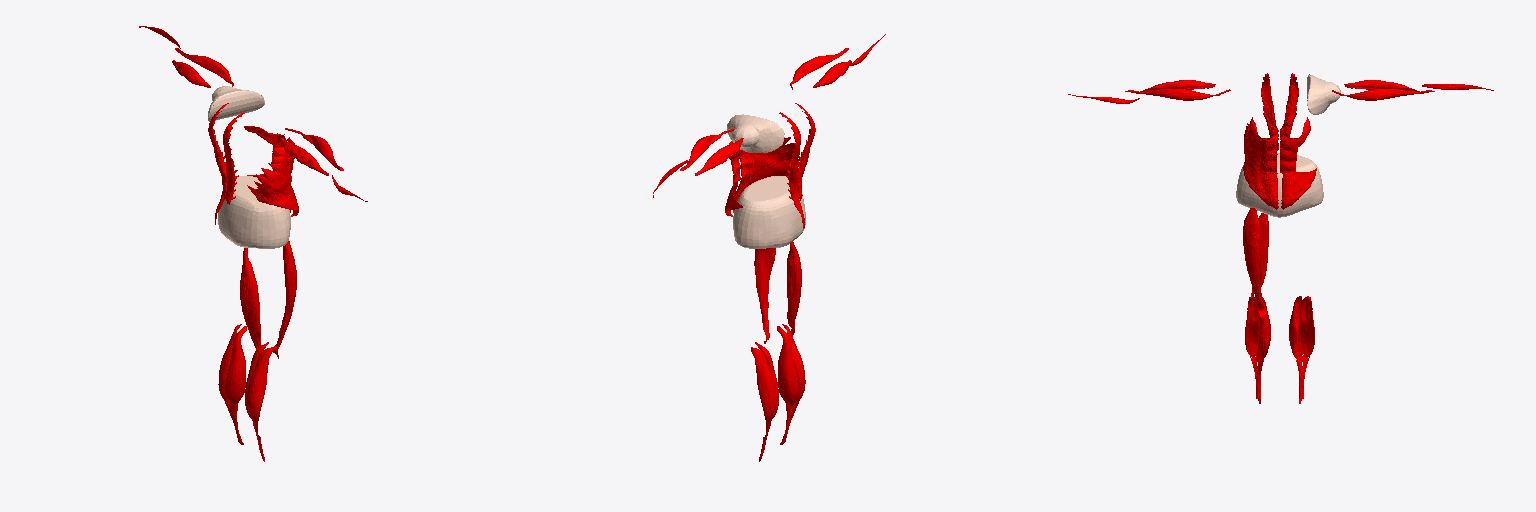
--- Facts derived from the render (not from the file) ---
The picture shows the robot from 3 angles, left to right: view 1: azimuth 30°, elevation 25°; view 2: azimuth 150°, elevation 25°; view 3: azimuth 270°, elevation 25°; orthographic projection.
Model HumanModel with 93 links and 92 joints (44 revolute, 48 fixed), rooted at Pelvis, posed every joint at zero.
Visible links, largest first — view 1: Pelvis, RightUpperLeg, LowerTrunk, LeftLowerLeg, RightLowerLeg, LeftShoulder, UpperTrunk, RightUpperArm, LeftUpperArm; view 2: Pelvis, RightUpperLeg, LowerTrunk, RightLowerLeg, LeftShoulder, LeftLowerLeg, LeftUpperArm, RightUpperArm, UpperTrunk; view 3: Pelvis, RightUpperLeg, LowerTrunk, LeftLowerLeg, UpperTrunk, RightLowerLeg, RightUpperArm, LeftUpperArm, LeftShoulder.
Link boxes in pixels (<box>): Pelvis: <box>215,174,298,248</box>; RightUpperLeg: <box>240,241,296,358</box>; LowerTrunk: <box>221,145,293,206</box>; LeftLowerLeg: <box>218,324,246,444</box>; RightLowerLeg: <box>245,342,272,461</box>; LeftShoulder: <box>208,86,264,121</box>; UpperTrunk: <box>208,103,294,179</box>; RightUpperArm: <box>280,128,343,175</box>; LeftUpperArm: <box>172,48,233,87</box>; Pelvis: <box>725,175,805,248</box>; RightUpperLeg: <box>754,241,801,343</box>; LowerTrunk: <box>731,137,803,201</box>; RightLowerLeg: <box>777,324,805,444</box>; LeftShoulder: <box>727,114,784,152</box>; LeftLowerLeg: <box>751,342,778,461</box>; LeftUpperArm: <box>680,129,743,175</box>; RightUpperArm: <box>790,48,851,89</box>; UpperTrunk: <box>729,103,815,179</box>; Pelvis: <box>1236,153,1323,217</box>; RightUpperLeg: <box>1243,208,1268,319</box>; LowerTrunk: <box>1243,116,1297,172</box>; LeftLowerLeg: <box>1289,296,1314,403</box>; UpperTrunk: <box>1249,73,1310,150</box>; RightLowerLeg: <box>1245,296,1270,403</box>; RightUpperArm: <box>1125,80,1230,100</box>; LeftUpperArm: <box>1332,80,1434,100</box>; LeftShoulder: <box>1307,74,1340,114</box>.
Bounding box of the posed robot: 0.2951 × 1.7 × 1.4 m (x, y, z).
Meshes: 51 distinct files referenced, 25 mesh visuals loaded (25 binary STL); not drawn: 26 (reference not matched to a file when rendering).

URDF robot description (HumanModel):
<?xml version='1.0' encoding='UTF-8'?>
<robot name="HumanModel">
  <link name="Pelvis">
    <inertial>
      <origin xyz="0.0 0.0 0.0" rpy="0.0 0.0 0.0"/>
      <mass value="11.3568"/>
      <inertia ixx="0.10967187230999999" ixy="0.0" ixz="0.0" iyy="0.10085187621599999" iyz="0.0" izz="0.179171996094"/>
    </inertial>
    <!-- Pelvis meshes body -->
    <visual>
      <geometry>
        <mesh filename="meshes\body\Pelvis.stl" scale="1 1 1"/>
      </geometry>
      <material name="color"/>
      <origin xyz="0.0 0.0 0.0" rpy="0.0 0.0 0.0"/>
    </visual>
    <!-- Pelvis Pelvis_RightErcSpin -->
    <visual>
      <geometry>
        <mesh filename="meshes\muscle\Pelvis_RightErcSpin.stl" scale="1 1 1"/>
      </geometry>
      <material name="muscle"/>
      <origin xyz="0.0 0.0 0.0" rpy="0.0 0.0 0.0"/>
    </visual>
    <!-- Pelvis Pelvis_LeftErcSpin -->
    <visual>
      <geometry>
        <mesh filename="meshes\muscle\Pelvis_LeftErcSpin.stl" scale="1 1 1"/>
      </geometry>
      <material name="muscle"/>
      <origin xyz="0.0 0.0 0.0" rpy="0.0 0.0 0.0"/>
    </visual>
    <!-- Pelvis Pelvis_RightRecAbd -->
    <visual>
      <geometry>
        <mesh filename="meshes\muscle\Pelvis_RightRecAbd.stl" scale="1 1 1"/>
      </geometry>
      <material name="muscle"/>
      <origin xyz="0.0 0.0 0.0" rpy="0.0 0.0 0.0"/>
    </visual>
    <!-- Pelvis Pelvis_LeftRecAbd -->
    <visual>
      <geometry>
        <mesh filename="meshes\muscle\Pelvis_LeftRecAbd.stl" scale="1 1 1"/>
      </geometry>
      <material name="muscle"/>
      <origin xyz="0.0 0.0 0.0" rpy="0.0 0.0 0.0"/>
    </visual>
    <collision>
      <geometry>
        <box size="0.3     0.31515 0.1287 "/>
      </geometry>
      <origin xyz="0.0 0.0 0.0" rpy="0.0 0.0 0.0"/>
    </collision>
  </link>
  <link name="LowerTrunk_f1">
    <inertial>
      <origin xyz="0.0 0.0 0.0" rpy="0.0 0.0 0.0"/>
      <mass value="1e-05"/>
      <inertia ixx="0.0" ixy="0.0" ixz="0.0" iyy="0.0" iyz="0.0" izz="0.0"/>
    </inertial>
  </link>
  <link name="LowerTrunk">
    <inertial>
      <origin xyz="0.0 0.0 0.0825" rpy="0.0 0.0 0.0"/>
      <mass value="14.8704"/>
      <inertia ixx="0.135880027272" ixy="0.0" ixz="0.0" iyy="0.14526522" iyz="0.0" izz="0.21367080727199997"/>
    </inertial>
    <!-- LowerTrunk meshes body -->
    <visual>
      <geometry>
        <mesh filename="meshes\body\LowerTrunk.stl" scale="1 1 1"/>
      </geometry>
      <material name="color"/>
      <origin xyz="0.0 0.0 0.0825" rpy="0.0 0.0 0.0"/>
    </visual>
    <!-- LowerTrunk_RightErcSpin -->
    <visual>
      <geometry>
        <mesh filename="meshes\muscle\LowerTrunk_RightErcSpin.stl" scale="1 1 1"/>
      </geometry>
      <material name="muscle"/>
      <origin xyz="0.0 0.0 0.0825" rpy="0.0 0.0 0.0"/>
    </visual>
    <!-- LowerTrunk_LeftErcSpin -->
    <visual>
      <geometry>
        <mesh filename="meshes\muscle\LowerTrunk_LeftErcSpin.stl" scale="1 1 1"/>
      </geometry>
      <material name="muscle"/>
      <origin xyz="0.0 0.0 0.0825" rpy="0.0 0.0 0.0"/>
    </visual>
    <!-- LowerTrunk_RightRecAbd -->
    <visual>
      <geometry>
        <mesh filename="meshes\muscle\LowerTrunk_RightRecAbd.stl" scale="1 1 1"/>
      </geometry>
      <material name="muscle"/>
      <origin xyz="0.0 0.0 0.0825" rpy="0.0 0.0 0.0"/>
    </visual>
    <!-- LowerTrunk_LefttRecAbd -->
    <visual>
      <geometry>
        <mesh filename="meshes\muscle\LowerTrunk_LefttRecAbd.stl" scale="1 1 1"/>
      </geometry>
      <material name="muscle"/>
      <origin xyz="0.0 0.0 0.0825" rpy="0.0 0.0 0.0"/>
    </visual>
    <collision>
      <geometry>
        <box size="0.3    0.2871 0.165 "/>
      </geometry>
      <origin xyz="0.0 0.0 0.0825" rpy="0.0 0.0 0.0"/>
    </collision>
  </link>
  <link name="UpperTrunk_f1">
    <inertial>
      <origin xyz="0.0 0.0 0.0" rpy="0.0 0.0 0.0"/>
      <mass value="1e-05"/>
      <inertia ixx="0.0" ixy="0.0" ixz="0.0" iyy="0.0" iyz="0.0" izz="0.0"/>
    </inertial>
  </link>
  <link name="UpperTrunk_f2">
    <inertial>
      <origin xyz="0.0 0.0 0.0" rpy="0.0 0.0 0.0"/>
      <mass value="1e-05"/>
      <inertia ixx="0.0" ixy="0.0" ixz="0.0" iyy="0.0" iyz="0.0" izz="0.0"/>
    </inertial>
  </link>
  <link name="UpperTrunk">
    <inertial>
      <origin xyz="0.0 0.0 0.09075" rpy="0.0 0.0 0.0"/>
      <mass value="5.0207999999999995"/>
      <inertia ixx="0.022273211245999996" ixy="0.0" ixz="0.0" iyy="0.05143903739999999" iyz="0.0" izz="0.04614617384599999"/>
    </inertial>
    <!-- UpperTrunk meshes body -->
    <visual>
      <geometry>
        <mesh filename="meshes\body\UpperTrunk.stl" scale="1 1 1"/>
      </geometry>
      <material name="color"/>
      <origin xyz="0.0 0.0 0.09075" rpy="0.0 0.0 0.0"/>
    </visual>
    <!-- UpperTrunk_RightErcSpin -->
    <visual>
      <geometry>
        <mesh filename="meshes\muscle\UpperTrunk_RightErcSpin.stl" scale="1 1 1"/>
      </geometry>
      <material name="muscle"/>
      <origin xyz="0.0 0.0 0.09075" rpy="0.0 0.0 0.0"/>
    </visual>
    <!-- UpperTrunk_LeftErcSpin -->
    <visual>
      <geometry>
        <mesh filename="meshes\muscle\UpperTrunk_LeftErcSpin.stl" scale="1 1 1"/>
      </geometry>
      <material name="muscle"/>
      <origin xyz="0.0 0.0 0.09075" rpy="0.0 0.0 0.0"/>
    </visual>
    <!-- UpperTrunk_RightRecAbd -->
    <visual>
      <geometry>
        <mesh filename="meshes\muscle\UpperTrunk_RightRecAbd.stl" scale="1 1 1"/>
      </geometry>
      <material name="muscle"/>
      <origin xyz="0.0 0.0 0.09075" rpy="0.0 0.0 0.0"/>
    </visual>
    <!-- UpperTrunk_LeftRecAbd -->
    <visual>
      <geometry>
        <mesh filename="meshes\muscle\UpperTrunk_LeftRecAbd.stl" scale="1 1 1"/>
      </geometry>
      <material name="muscle"/>
      <origin xyz="0.0 0.0 0.09075" rpy="0.0 0.0 0.0"/>
    </visual>
    <collision>
      <geometry>
        <box size="0.3     0.14245 0.1815 "/>
      </geometry>
      <origin xyz="0.0 0.0 0.09075" rpy="0.0 0.0 0.0"/>
    </collision>
  </link>
  <link name="RightShoulder">
    <inertial>
      <origin xyz="0.0 -0.071225 0.0" rpy="1.5708 0.0 0.0"/>
      <mass value="5.0207999999999995"/>
      <inertia ixx="0.011031953845999998" ixy="0.0" ixz="0.0" iyy="0.011031953845999998" iyz="0.0" izz="0.01"/>
    </inertial>
    <!-- RightShoulder meshes body -->
    <visual>
      <geometry>
        <mesh filename="meshes\body\RightShoulder.stl" scale="1 1 1"/>
      </geometry>
      <material name="color"/>
      <origin xyz="0.0 -0.071225 0.0" rpy="1.5708 0.0 0.0"/>
    </visual>
    <collision>
      <geometry>
        <cylinder radius="0.045" length="0.14245"/>
      </geometry>
      <origin xyz="0.0 -0.071225 0.0" rpy="1.5708 0.0 0.0"/>
    </collision>
  </link>
  <link name="LeftShoulder">
    <inertial>
      <origin xyz="0.0 0.071225 0.0" rpy="1.5708 0.0 0.0"/>
      <mass value="5.0207999999999995"/>
      <inertia ixx="0.011031953845999998" ixy="0.0" ixz="0.0" iyy="0.011031953845999998" iyz="0.0" izz="0.01"/>
    </inertial>
    <!-- LeftShoulder meshes body -->
    <visual>
      <geometry>
        <mesh filename="meshes\body\LeftShoulder.stl" scale="1 1 1"/>
      </geometry>
      <material name="color"/>
      <origin xyz="0.0 0.071225 0.0" rpy="1.5708 0.0 0.0"/>
    </visual>
    <collision>
      <geometry>
        <cylinder radius="0.045" length="0.14245"/>
      </geometry>
      <origin xyz="0.0 0.071225 0.0" rpy="1.5708 0.0 0.0"/>
    </collision>
  </link>
  <link name="Neck_f1">
    <inertial>
      <origin xyz="0.0 0.0 0.0" rpy="0.0 0.0 0.0"/>
      <mass value="1e-05"/>
      <inertia ixx="0.0" ixy="0.0" ixz="0.0" iyy="0.0" iyz="0.0" izz="0.0"/>
    </inertial>
  </link>
  <link name="Neck_f2">
    <inertial>
      <origin xyz="0.0 0.0 0.0" rpy="0.0 0.0 0.0"/>
      <mass value="1e-05"/>
      <inertia ixx="0.0" ixy="0.0" ixz="0.0" iyy="0.0" iyz="0.0" izz="0.0"/>
    </inertial>
  </link>
  <link name="Neck">
    <inertial>
      <origin xyz="0.0 0.0 0.042899999999999994" rpy="0.0 0.0 0.0"/>
      <mass value="1.8624"/>
      <inertia ixx="0.01" ixy="0.0" ixz="0.0" iyy="0.01" iyz="0.0" izz="0.01"/>
    </inertial>
    <!-- Neck meshes body -->
    <visual>
      <geometry>
        <mesh filename="meshes\body\Neck.stl" scale="1 1 1"/>
      </geometry>
      <material name="color"/>
      <origin xyz="0.0 0.0 0.042899999999999994" rpy="0.0 0.0 0.0"/>
    </visual>
    <collision>
      <geometry>
        <cylinder radius="0.065" length="0.08579999999999999"/>
      </geometry>
      <origin xyz="0.0 0.0 0.042899999999999994" rpy="0.0 0.0 0.0"/>
    </collision>
  </link>
  <link name="Head_f1">
    <inertial>
      <origin xyz="0.0 0.0 0.0" rpy="0.0 0.0 0.0"/>
      <mass value="1e-05"/>
      <inertia ixx="0.0" ixy="0.0" ixz="0.0" iyy="0.0" iyz="0.0" izz="0.0"/>
    </inertial>
  </link>
  <link name="Head">
    <inertial>
      <origin xyz="0.0 0.0 0.10725" rpy="0.0 0.0 0.0"/>
      <mass value="4.6752"/>
      <inertia ixx="0.02151071208" ixy="0.0" ixz="0.0" iyy="0.02151071208" iyz="0.0" izz="0.02151071208"/>
    </inertial>
    <!-- Head meshes body -->
    <visual>
      <geometry>
        <mesh filename="meshes\body\Head.stl" scale="1 1 1"/>
      </geometry>
      <material name="color"/>
      <origin xyz="0.0 0.0 0.10725" rpy="0.0 0.0 0.0"/>
    </visual>
    <collision>
      <geometry>
        <sphere radius="0.10725"/>
      </geometry>
      <origin xyz="0.0 0.0 0.10725" rpy="0.0 0.0 0.0"/>
    </collision>
  </link>
  <link name="RightShoulder_f1">
    <inertial>
      <origin xyz="0.0 0.0 0.0" rpy="0.0 0.0 0.0"/>
      <mass value="1e-05"/>
      <inertia ixx="0.0" ixy="0.0" ixz="0.0" iyy="0.0" iyz="0.0" izz="0.0"/>
    </inertial>
  </link>
  <link name="RightShoulder_f2">
    <inertial>
      <origin xyz="0.0 0.0 0.0" rpy="0.0 0.0 0.0"/>
      <mass value="1e-05"/>
      <inertia ixx="0.0" ixy="0.0" ixz="0.0" iyy="0.0" iyz="0.0" izz="0.0"/>
    </inertial>
  </link>
  <link name="RightUpperArm">
    <inertial>
      <origin xyz="0.0 -0.15345 0.0" rpy="1.5708 0.0 0.0"/>
      <mass value="2.5248"/>
      <inertia ixx="0.021095253143999997" ixy="0.0" ixz="0.0" iyy="0.021095253143999997" iyz="0.0" izz="0.01"/>
    </inertial>
    <!-- RightUpperArm meshes body -->
    <visual>
      <geometry>
        <mesh filename="meshes\body\RightUpperArm.stl" scale="1 1 1"/>
      </geometry>
      <material name="color"/>
      <origin xyz="0.0 -0.15345 0.0" rpy="1.5708 0.0 0.0"/>
    </visual>
    <!-- RightBicBrac -->
    <visual>
      <geometry>
        <mesh filename="meshes\muscle\RightBicBrac.stl" scale="1 1 1"/>
      </geometry>
      <material name="muscle"/>
      <origin xyz="0.0 -0.15345 0.0" rpy="1.5708 0.0 0.0"/>
    </visual>
    <!-- RightTricBrac -->
    <visual>
      <geometry>
        <mesh filename="meshes\muscle\RightTricBrac.stl" scale="1 1 1"/>
      </geometry>
      <material name="muscle"/>
      <origin xyz="0.0 -0.15345 0.0" rpy="1.5708 0.0 0.0"/>
    </visual>
    <collision>
      <geometry>
        <cylinder radius="0.045" length="0.3069"/>
      </geometry>
      <origin xyz="0.0 -0.15345 0.0" rpy="1.5708 0.0 0.0"/>
    </collision>
  </link>
  <link name="RightForeArm_f1">
    <inertial>
      <origin xyz="0.0 0.0 0.0" rpy="0.0 0.0 0.0"/>
      <mass value="1e-05"/>
      <inertia ixx="0.0" ixy="0.0" ixz="0.0" iyy="0.0" iyz="0.0" izz="0.0"/>
    </inertial>
  </link>
  <link name="RightForeArm">
    <inertial>
      <origin xyz="0.0 -0.12044999999999999 0.0" rpy="1.5708 0.0 0.0"/>
      <mass value="1.44"/>
      <inertia ixx="0.01" ixy="0.0" ixz="0.0" iyy="0.01" iyz="0.0" izz="0.01"/>
    </inertial>
    <!-- RightForeArm meshes body -->
    <visual>
      <geometry>
        <mesh filename="meshes\body\RightForeArm.stl" scale="1 1 1"/>
      </geometry>
      <material name="color"/>
      <origin xyz="0.0 -0.12044999999999999 0.0" rpy="1.5708 0.0 0.0"/>
    </visual>
    <!-- RightExtCarp -->
    <visual>
      <geometry>
        <mesh filename="meshes\muscle\RightExtCarp.stl" scale="1 1 1"/>
      </geometry>
      <material name="muscle"/>
      <origin xyz="0.0 -0.12044999999999999 0.0" rpy="1.5708 0.0 0.0"/>
    </visual>
    <!-- RightFlexCarp -->
    <visual>
      <geometry>
        <mesh filename="meshes\muscle\RightFlexCarp.stl" scale="1 1 1"/>
      </geometry>
      <material name="muscle"/>
      <origin xyz="0.0 -0.12044999999999999 0.0" rpy="1.5708 0.0 0.0"/>
    </visual>
    <collision>
      <geometry>
        <cylinder radius="0.045" length="0.24089999999999998"/>
      </geometry>
      <origin xyz="0.0 -0.12044999999999999 0.0" rpy="1.5708 0.0 0.0"/>
    </collision>
  </link>
  <link name="RightHand_f1">
    <inertial>
      <origin xyz="0.0 0.0 0.0" rpy="0.0 0.0 0.0"/>
      <mass value="1e-05"/>
      <inertia ixx="0.0" ixy="0.0" ixz="0.0" iyy="0.0" iyz="0.0" izz="0.0"/>
    </inertial>
  </link>
  <link name="RightHand">
    <inertial>
      <origin xyz="0.0 -0.0891 0.0" rpy="0.0 0.0 0.0"/>
      <mass value="0.5664"/>
      <inertia ixx="0.01" ixy="0.0" ixz="0.0" iyy="0.01" iyz="0.0" izz="0.01"/>
    </inertial>
    <!-- RightHand meshes body -->
    <visual>
      <geometry>
        <mesh filename="meshes\body\RightHand.stl" scale="1 1 1"/>
      </geometry>
      <material name="color"/>
      <origin xyz="0.0 -0.0891 0.0" rpy="0.0 0.0 0.0"/>
    </visual>
    <collision>
      <geometry>
        <box size="0.08   0.1782 0.045 "/>
      </geometry>
      <origin xyz="0.0 -0.0891 0.0" rpy="0.0 0.0 0.0"/>
    </collision>
  </link>
  <link name="RightHandCOM">
    <inertial>
      <origin xyz="0.0 0.0 0.0" rpy="0.0 0.0 0.0"/>
      <mass value="1e-05"/>
      <inertia ixx="0.0" ixy="0.0" ixz="0.0" iyy="0.0" iyz="0.0" izz="0.0"/>
    </inertial>
    <visual>
      <geometry>
        <box size="0. 0. 0."/>
      </geometry>
      <material name="color"/>
      <origin xyz="0.0 0.0 0.0" rpy="0.0 0.0 0.0"/>
    </visual>
  </link>
  <link name="LeftShoulder_f1">
    <inertial>
      <origin xyz="0.0 0.0 0.0" rpy="0.0 0.0 0.0"/>
      <mass value="1e-05"/>
      <inertia ixx="0.0" ixy="0.0" ixz="0.0" iyy="0.0" iyz="0.0" izz="0.0"/>
    </inertial>
  </link>
  <link name="LeftShoulder_f2">
    <inertial>
      <origin xyz="0.0 0.0 0.0" rpy="0.0 0.0 0.0"/>
      <mass value="1e-05"/>
      <inertia ixx="0.0" ixy="0.0" ixz="0.0" iyy="0.0" iyz="0.0" izz="0.0"/>
    </inertial>
  </link>
  <link name="LeftUpperArm">
    <inertial>
      <origin xyz="0.0 0.15345 0.0" rpy="1.5708 0.0 0.0"/>
      <mass value="2.5248"/>
      <inertia ixx="0.021095253143999997" ixy="0.0" ixz="0.0" iyy="0.021095253143999997" iyz="0.0" izz="0.01"/>
    </inertial>
    <!-- LeftUpperArm meshes body -->
    <visual>
      <geometry>
        <mesh filename="meshes\body\LeftUpperArm.stl" scale="1 1 1"/>
      </geometry>
      <material name="color"/>
      <origin xyz="0.0 0.15345 0.0" rpy="1.5708 0.0 0.0"/>
    </visual>
    <!-- LeftBicBrac -->
    <visual>
      <geometry>
        <mesh filename="meshes\muscle\LeftBicBrac.stl" scale="1 1 1"/>
      </geometry>
      <material name="muscle"/>
      <origin xyz="0.0 0.15345 0.0" rpy="1.5708 0.0 0.0"/>
    </visual>
    <!-- LeftTricBrac -->
    <visual>
      <geometry>
        <mesh filename="meshes\muscle\LeftTricBrac.stl" scale="1 1 1"/>
      </geometry>
      <material name="muscle"/>
      <origin xyz="0.0 0.15345 0.0" rpy="1.5708 0.0 0.0"/>
    </visual>
    <collision>
      <geometry>
        <cylinder radius="0.045" length="0.3069"/>
      </geometry>
      <origin xyz="0.0 0.15345 0.0" rpy="1.5708 0.0 0.0"/>
    </collision>
  </link>
  <link name="LeftForeArm_f1">
    <inertial>
      <origin xyz="0.0 0.0 0.0" rpy="0.0 0.0 0.0"/>
      <mass value="1e-05"/>
      <inertia ixx="0.0" ixy="0.0" ixz="0.0" iyy="0.0" iyz="0.0" izz="0.0"/>
    </inertial>
  </link>
  <link name="LeftForeArm">
    <inertial>
      <origin xyz="0.0 0.12044999999999999 0.0" rpy="1.5708 0.0 0.0"/>
      <mass value="1.44"/>
      <inertia ixx="0.01" ixy="0.0" ixz="0.0" iyy="0.01" iyz="0.0" izz="0.01"/>
    </inertial>
    <!-- LeftForeArm meshes body -->
    <visual>
      <geometry>
        <mesh filename="meshes\body\LeftForeArm.stl" scale="1 1 1"/>
      </geometry>
      <material name="color"/>
      <origin xyz="0.0 0.12044999999999999 0.0" rpy="1.5708 0.0 0.0"/>
    </visual>
    <!-- LeftExtCarp -->
    <visual>
      <geometry>
        <mesh filename="meshes\muscle\LeftExtCarp.stl" scale="1 1 1"/>
      </geometry>
      <material name="muscle"/>
      <origin xyz="0.0 0.12044999999999999 0.0" rpy="1.5708 0.0 0.0"/>
    </visual>
    <!-- LeftFlexCarp -->
    <visual>
      <geometry>
        <mesh filename="meshes\muscle\LeftFlexCarp.stl" scale="1 1 1"/>
      </geometry>
      <material name="muscle"/>
      <origin xyz="0.0 0.12044999999999999 0.0" rpy="1.5708 0.0 0.0"/>
    </visual>
    <collision>
      <geometry>
        <cylinder radius="0.045" length="0.24089999999999998"/>
      </geometry>
      <origin xyz="0.0 0.12044999999999999 0.0" rpy="1.5708 0.0 0.0"/>
    </collision>
  </link>
  <link name="LeftHand_f1">
    <inertial>
      <origin xyz="0.0 0.0 0.0" rpy="0.0 0.0 0.0"/>
      <mass value="1e-05"/>
      <inertia ixx="0.0" ixy="0.0" ixz="0.0" iyy="0.0" iyz="0.0" izz="0.0"/>
    </inertial>
  </link>
  <link name="LeftHand">
    <inertial>
      <origin xyz="0.0 0.0891 0.0" rpy="0.0 0.0 0.0"/>
      <mass value="0.5664"/>
      <inertia ixx="0.01" ixy="0.0" ixz="0.0" iyy="0.01" iyz="0.0" izz="0.01"/>
    </inertial>
    <!-- LeftHand meshes body -->
    <visual>
      <geometry>
        <mesh filename="meshes\body\LeftHand.stl" scale="1 1 1"/>
      </geometry>
      <material name="color"/>
      <origin xyz="0.0 0.0891 0.0" rpy="0.0 0.0 0.0"/>
    </visual>
    <collision>
      <geometry>
        <box size="0.08   0.1782 0.045 "/>
      </geometry>
      <origin xyz="0.0 0.0891 0.0" rpy="0.0 0.0 0.0"/>
    </collision>
  </link>
  <link name="LeftHandCOM">
    <inertial>
      <origin xyz="0.0 0.0 0.0" rpy="0.0 0.0 0.0"/>
      <mass value="1e-05"/>
      <inertia ixx="0.0" ixy="0.0" ixz="0.0" iyy="0.0" iyz="0.0" izz="0.0"/>
    </inertial>
    <visual>
      <geometry>
        <box size="0. 0. 0."/>
      </geometry>
      <material name="color"/>
      <origin xyz="0.0 0.0 0.0" rpy="0.0 0.0 0.0"/>
    </visual>
  </link>
  <link name="RightUpperLeg_f1">
    <inertial>
      <origin xyz="0.0 0.0 0.0" rpy="0.0 0.0 0.0"/>
      <mass value="1e-05"/>
      <inertia ixx="0.0" ixy="0.0" ixz="0.0" iyy="0.0" iyz="0.0" izz="0.0"/>
    </inertial>
  </link>
  <link name="RightUpperLeg_f2">
    <inertial>
      <origin xyz="0.0 0.0 0.0" rpy="0.0 0.0 0.0"/>
      <mass value="1e-05"/>
      <inertia ixx="0.0" ixy="0.0" ixz="0.0" iyy="0.0" iyz="0.0" izz="0.0"/>
    </inertial>
  </link>
  <link name="RightUpperLeg">
    <inertial>
      <origin xyz="0.0 0.0 -0.202125" rpy="0.0 0.0 0.0"/>
      <mass value="13.8912"/>
      <inertia ixx="0.20870724914999997" ixy="0.0" ixz="0.0" iyy="0.20870724914999997" iyz="0.0" izz="0.039069"/>
    </inertial>
    <!-- RightUpperLeg meshes body -->
    <visual>
      <geometry>
        <mesh filename="meshes\body\RightUpperLeg.stl" scale="1 1 1"/>
      </geometry>
      <material name="color"/>
      <origin xyz="0.0 0.0 -0.202125" rpy="0.0 0.0 0.0"/>
    </visual>
    <!-- RightBicFem -->
    <visual>
      <geometry>
        <mesh filename="meshes\muscle\RightBicFem.stl" scale="1 1 1"/>
      </geometry>
      <material name="muscle"/>
      <origin xyz="0.0 0.0 -0.202125" rpy="0.0 0.0 0.0"/>
    </visual>
    <!-- RightRecFem -->
    <visual>
      <geometry>
        <mesh filename="meshes\muscle\RightRecFem.stl" scale="1 1 1"/>
      </geometry>
      <material name="muscle"/>
      <origin xyz="0.0 0.0 -0.202125" rpy="0.0 0.0 0.0"/>
    </visual>
    <collision>
      <geometry>
        <cylinder radius="0.075" length="0.40425"/>
      </geometry>
      <origin xyz="0.0 0.0 -0.202125" rpy="0.0 0.0 0.0"/>
    </collision>
  </link>
  <link name="RightLowerLeg_f1">
    <inertial>
      <origin xyz="0.0 0.0 0.0" rpy="0.0 0.0 0.0"/>
      <mass value="1e-05"/>
      <inertia ixx="0.0" ixy="0.0" ixz="0.0" iyy="0.0" iyz="0.0" izz="0.0"/>
    </inertial>
  </link>
  <link name="RightLowerLeg">
    <inertial>
      <origin xyz="0.0 0.0 -0.20295" rpy="0.0 0.0 0.0"/>
      <mass value="4.3872"/>
      <inertia ixx="0.063860653536" ixy="0.0" ixz="0.0" iyy="0.063860653536" iyz="0.0" izz="0.01"/>
    </inertial>
    <!-- RightLowerLeg meshes body -->
    <visual>
      <geometry>
        <mesh filename="meshes\body\RightLowerLeg.stl" scale="1 1 1"/>
      </geometry>
      <material name="color"/>
      <origin xyz="0.0 0.0 -0.20295" rpy="0.0 0.0 0.0"/>
    </visual>
    <!-- RightTibAnt -->
    <visual>
      <geometry>
        <mesh filename="meshes\muscle\RightTibAnt.stl" scale="1 1 1"/>
      </geometry>
      <material name="muscle"/>
      <origin xyz="0.0 0.0 -0.20295" rpy="0.0 0.0 0.0"/>
    </visual>
    <!-- RightGasLat -->
    <visual>
      <geometry>
        <mesh filename="meshes\muscle\RightGasLat.stl" scale="1 1 1"/>
      </geometry>
      <material name="muscle"/>
      <origin xyz="0.0 0.0 -0.20295" rpy="0.0 0.0 0.0"/>
    </visual>
    <!-- RightGasMed -->
    <visual>
      <geometry>
        <mesh filename="meshes\muscle\RightGasMed.stl" scale="1 1 1"/>
      </geometry>
      <material name="muscle"/>
      <origin xyz="0.0 0.0 -0.20295" rpy="0.0 0.0 0.0"/>
    </visual>
    <collision>
      <geometry>
        <cylinder radius="0.0575" length="0.4059"/>
      </geometry>
      <origin xyz="0.0 0.0 -0.20295" rpy="0.0 0.0 0.0"/>
    </collision>
  </link>
  <link name="RightFoot_f1">
    <inertial>
      <origin xyz="0.0 0.0 0.0" rpy="0.0 0.0 0.0"/>
      <mass value="1e-05"/>
      <inertia ixx="0.0" ixy="0.0" ixz="0.0" iyy="0.0" iyz="0.0" izz="0.0"/>
    </inertial>
  </link>
  <link name="RightFoot_f2">
    <inertial>
      <origin xyz="0.0 0.0 0.0" rpy="0.0 0.0 0.0"/>
      <mass value="1e-05"/>
      <inertia ixx="0.0" ixy="0.0" ixz="0.0" iyy="0.0" iyz="0.0" izz="0.0"/>
    </inertial>
  </link>
  <link name="RightFoot">
    <inertial>
      <origin xyz="0.06789999999999999 0.0 -0.032174999999999995" rpy="0.0 0.0 0.0"/>
      <mass value="1.264032"/>
      <inertia ixx="0.01" ixy="0.0" ixz="0.0" iyy="0.01" iyz="0.0" izz="0.01"/>
    </inertial>
    <!-- RightFoot -->
    <visual>
      <geometry>
        <mesh filename="meshes\body\RightFoot.stl" scale="1 1 1"/>
      </geometry>
      <material name="color"/>
      <origin xyz="0.06789999999999999 0.0 -0.032174999999999995" rpy="0.0 0.0 0.0"/>
    </visual>
    <collision>
      <geometry>
        <box size="0.2508  0.09075 0.06435"/>
      </geometry>
      <origin xyz="0.06789999999999999 0.0 -0.032174999999999995" rpy="0.0 0.0 0.0"/>
    </collision>
  </link>
  <link name="RightToe">
    <inertial>
      <origin xyz="0.0 0.0 0.0" rpy="0.0 0.0 0.0"/>
      <mass value="0.012768"/>
      <inertia ixx="0.01" ixy="0.0" ixz="0.0" iyy="0.01" iyz="0.0" izz="0.01"/>
    </inertial>
    <!-- RightToe -->
    <visual>
      <geometry>
        <mesh filename="meshes\body\RightToe.stl" scale="1 1 1"/>
      </geometry>
      <material name="color"/>
      <origin xyz="0.0 0.0 0.0" rpy="0.0 0.0 0.0"/>
    </visual>
    <collision>
      <geometry>
        <box size="0.002508 0.09075  0.06435 "/>
      </geometry>
      <origin xyz="0.0 0.0 0.0" rpy="0.0 0.0 0.0"/>
    </collision>
  </link>
  <link name="RightFTSensor">
    <inertial>
      <origin xyz="0.0 0.0 0.0" rpy="0.0 0.0 0.0"/>
      <mass value="1e-05"/>
      <inertia ixx="0.0" ixy="0.0" ixz="0.0" iyy="0.0" iyz="0.0" izz="0.0"/>
    </inertial>
    <visual>
      <geometry>
        <box size="0. 0. 0."/>
      </geometry>
      <material name="color"/>
      <origin xyz="0.0 0.0 0.0" rpy="0.0 0.0 0.0"/>
    </visual>
  </link>
  <link name="LeftUpperLeg_f1">
    <inertial>
      <origin xyz="0.0 0.0 0.0" rpy="0.0 0.0 0.0"/>
      <mass value="1e-05"/>
      <inertia ixx="0.0" ixy="0.0" ixz="0.0" iyy="0.0" iyz="0.0" izz="0.0"/>
    </inertial>
  </link>
  <link name="LeftUpperLeg_f2">
    <inertial>
      <origin xyz="0.0 0.0 0.0" rpy="0.0 0.0 0.0"/>
      <mass value="1e-05"/>
      <inertia ixx="0.0" ixy="0.0" ixz="0.0" iyy="0.0" iyz="0.0" izz="0.0"/>
    </inertial>
  </link>
  <link name="LeftUpperLeg">
    <inertial>
      <origin xyz="0.0 0.0 -0.202125" rpy="0.0 0.0 0.0"/>
      <mass value="13.8912"/>
      <inertia ixx="0.20870724914999997" ixy="0.0" ixz="0.0" iyy="0.20870724914999997" iyz="0.0" izz="0.039069"/>
    </inertial>
    <!-- LeftUpperLeg meshes body -->
    <visual>
      <geometry>
        <mesh filename="meshes\body\LeftUpperLeg.stl" scale="1 1 1"/>
      </geometry>
      <material name="color"/>
      <origin xyz="0.0 0.0 -0.202125" rpy="0.0 0.0 0.0"/>
    </visual>
    <!-- LeftBicFem -->
    <visual>
      <geometry>
        <mesh filename="meshes\muscle\LeftBicFem.stl" scale="1 1 1"/>
      </geometry>
      <material name="muscle"/>
      <origin xyz="0.0 0.0 -0.202125" rpy="0.0 0.0 0.0"/>
    </visual>
    <!-- LeftRecFem -->
    <visual>
      <geometry>
        <mesh filename="meshes\muscle\LeftRecFem.stl" scale="1 1 1"/>
      </geometry>
      <material name="muscle"/>
      <origin xyz="0.0 0.0 -0.202125" rpy="0.0 0.0 0.0"/>
    </visual>
    <collision>
      <geometry>
        <cylinder radius="0.075" length="0.40425"/>
      </geometry>
      <origin xyz="0.0 0.0 -0.202125" rpy="0.0 0.0 0.0"/>
    </collision>
  </link>
  <link name="LeftLowerLeg_f1">
    <inertial>
      <origin xyz="0.0 0.0 0.0" rpy="0.0 0.0 0.0"/>
      <mass value="1e-05"/>
      <inertia ixx="0.0" ixy="0.0" ixz="0.0" iyy="0.0" iyz="0.0" izz="0.0"/>
    </inertial>
  </link>
  <link name="LeftLowerLeg">
    <inertial>
      <origin xyz="0.0 0.0 -0.20295" rpy="0.0 0.0 0.0"/>
      <mass value="4.3872"/>
      <inertia ixx="0.063860653536" ixy="0.0" ixz="0.0" iyy="0.063860653536" iyz="0.0" izz="0.01"/>
    </inertial>
    <!-- LeftLowerLeg meshes body -->
    <visual>
      <geometry>
        <mesh filename="meshes\body\LeftLowerLeg.stl" scale="1 1 1"/>
      </geometry>
      <material name="color"/>
      <origin xyz="0.0 0.0 -0.20295" rpy="0.0 0.0 0.0"/>
    </visual>
    <!-- LeftTibAnt -->
    <visual>
      <geometry>
        <mesh filename="meshes\muscle\LeftTibAnt.stl" scale="1 1 1"/>
      </geometry>
      <material name="muscle"/>
      <origin xyz="0.0 0.0 -0.20295" rpy="0.0 0.0 0.0"/>
    </visual>
    <!-- LeftGasLat -->
    <visual>
      <geometry>
        <mesh filename="meshes\muscle\LeftGasLat.stl" scale="1 1 1"/>
      </geometry>
      <material name="muscle"/>
      <origin xyz="0.0 0.0 -0.20295" rpy="0.0 0.0 0.0"/>
    </visual>
    <!-- LeftGasMed -->
    <visual>
      <geometry>
        <mesh filename="meshes\muscle\LeftGasMed.stl" scale="1 1 1"/>
      </geometry>
      <material name="muscle"/>
      <origin xyz="0.0 0.0 -0.20295" rpy="0.0 0.0 0.0"/>
    </visual>
    <collision>
      <geometry>
        <cylinder radius="0.0575" length="0.4059"/>
      </geometry>
      <origin xyz="0.0 0.0 -0.20295" rpy="0.0 0.0 0.0"/>
    </collision>
  </link>
  <link name="LeftFoot_f1">
    <inertial>
      <origin xyz="0.0 0.0 0.0" rpy="0.0 0.0 0.0"/>
      <mass value="1e-05"/>
      <inertia ixx="0.0" ixy="0.0" ixz="0.0" iyy="0.0" iyz="0.0" izz="0.0"/>
    </inertial>
  </link>
  <link name="LeftFoot_f2">
    <inertial>
      <origin xyz="0.0 0.0 0.0" rpy="0.0 0.0 0.0"/>
      <mass value="1e-05"/>
      <inertia ixx="0.0" ixy="0.0" ixz="0.0" iyy="0.0" iyz="0.0" izz="0.0"/>
    </inertial>
  </link>
  <link name="LeftFoot">
    <inertial>
      <origin xyz="0.06789999999999999 0.0 -0.032174999999999995" rpy="0.0 0.0 0.0"/>
      <mass value="1.264032"/>
      <inertia ixx="0.01" ixy="0.0" ixz="0.0" iyy="0.01" iyz="0.0" izz="0.01"/>
    </inertial>
  <!-- LeftFoot meshes body -->
    <visual>
      <geometry>
        <mesh filename="meshes\body\LeftFoot.stl" scale="1 1 1"/>
      </geometry>
      <material name="color"/>
      <origin xyz="0.06789999999999999 0.0 -0.032174999999999995" rpy="0.0 0.0 0.0"/>
    </visual>
    <collision>
      <geometry>
        <box size="0.2508  0.09075 0.06435"/>
      </geometry>
      <origin xyz="0.06789999999999999 0.0 -0.032174999999999995" rpy="0.0 0.0 0.0"/>
    </collision>
  </link>
  <link name="LeftToe">
    <inertial>
      <origin xyz="0.0 0.0 0.0" rpy="0.0 0.0 0.0"/>
      <mass value="0.012768"/>
      <inertia ixx="0.01" ixy="0.0" ixz="0.0" iyy="0.01" iyz="0.0" izz="0.01"/>
    </inertial>
  <!-- LeftToe meshes body -->
    <visual>
      <geometry>
        <mesh filename="meshes\body\LeftToe.stl" scale="1 1 1"/>
      </geometry>
      <material name="color"/>
      <origin xyz="0.0 0.0 0.0" rpy="0.0 0.0 0.0"/>
    </visual>
    <collision>
      <geometry>
        <box size="0.002508 0.09075  0.06435 "/>
      </geometry>
      <origin xyz="0.0 0.0 0.0" rpy="0.0 0.0 0.0"/>
    </collision>
  </link>
  <link name="LeftFTSensor">
    <inertial>
      <origin xyz="0.0 0.0 0.0" rpy="0.0 0.0 0.0"/>
      <mass value="1e-05"/>
      <inertia ixx="0.0" ixy="0.0" ixz="0.0" iyy="0.0" iyz="0.0" izz="0.0"/>
    </inertial>
    <visual>
      <geometry>
        <box size="0. 0. 0."/>
      </geometry>
      <material name="color"/>
      <origin xyz="0.0 0.0 0.0" rpy="0.0 0.0 0.0"/>
    </visual>
  </link>
  <link name="BicBrac_RUA">
    <inertial>
      <origin xyz="0.0 0.0 0.0" rpy="0.0 0.0 0.0"/>
      <mass value="0.0"/>
      <inertia ixx="0.0" ixy="0.0" ixz="0.0" iyy="0.0" iyz="0.0" izz="0.0"/>
    </inertial>
  </link>
  <link name="BicBrac_RFA">
    <inertial>
      <origin xyz="0.0 0.0 0.0" rpy="0.0 0.0 0.0"/>
      <mass value="0.0"/>
      <inertia ixx="0.0" ixy="0.0" ixz="0.0" iyy="0.0" iyz="0.0" izz="0.0"/>
    </inertial>
  </link>
  <link name="TricBrac_RUA">
    <inertial>
      <origin xyz="0.0 0.0 0.0" rpy="0.0 0.0 0.0"/>
      <mass value="0.0"/>
      <inertia ixx="0.0" ixy="0.0" ixz="0.0" iyy="0.0" iyz="0.0" izz="0.0"/>
    </inertial>
  </link>
  <link name="TricBrac_RFA">
    <inertial>
      <origin xyz="0.0 0.0 0.0" rpy="0.0 0.0 0.0"/>
      <mass value="0.0"/>
      <inertia ixx="0.0" ixy="0.0" ixz="0.0" iyy="0.0" iyz="0.0" izz="0.0"/>
    </inertial>
  </link>
  <link name="FlexCarp_RFA">
    <inertial>
      <origin xyz="0.0 0.0 0.0" rpy="0.0 0.0 0.0"/>
      <mass value="0.0"/>
      <inertia ixx="0.0" ixy="0.0" ixz="0.0" iyy="0.0" iyz="0.0" izz="0.0"/>
    </inertial>
  </link>
  <link name="FlexCarp_RH">
    <inertial>
      <origin xyz="0.0 0.0 0.0" rpy="0.0 0.0 0.0"/>
      <mass value="0.0"/>
      <inertia ixx="0.0" ixy="0.0" ixz="0.0" iyy="0.0" iyz="0.0" izz="0.0"/>
    </inertial>
  </link>
  <link name="ExtCarp_RFA">
    <inertial>
      <origin xyz="0.0 0.0 0.0" rpy="0.0 0.0 0.0"/>
      <mass value="0.0"/>
      <inertia ixx="0.0" ixy="0.0" ixz="0.0" iyy="0.0" iyz="0.0" izz="0.0"/>
    </inertial>
  </link>
  <link name="ExtCarp_RH">
    <inertial>
      <origin xyz="0.0 0.0 0.0" rpy="0.0 0.0 0.0"/>
      <mass value="0.0"/>
      <inertia ixx="0.0" ixy="0.0" ixz="0.0" iyy="0.0" iyz="0.0" izz="0.0"/>
    </inertial>
  </link>
  <link name="BicBrac_LUA">
    <inertial>
      <origin xyz="0.0 0.0 0.0" rpy="0.0 0.0 0.0"/>
      <mass value="0.0"/>
      <inertia ixx="0.0" ixy="0.0" ixz="0.0" iyy="0.0" iyz="0.0" izz="0.0"/>
    </inertial>
  </link>
  <link name="BicBrac_LFA">
    <inertial>
      <origin xyz="0.0 0.0 0.0" rpy="0.0 0.0 0.0"/>
      <mass value="0.0"/>
      <inertia ixx="0.0" ixy="0.0" ixz="0.0" iyy="0.0" iyz="0.0" izz="0.0"/>
    </inertial>
  </link>
  <link name="TricBrac_LUA">
    <inertial>
      <origin xyz="0.0 0.0 0.0" rpy="0.0 0.0 0.0"/>
      <mass value="0.0"/>
      <inertia ixx="0.0" ixy="0.0" ixz="0.0" iyy="0.0" iyz="0.0" izz="0.0"/>
    </inertial>
  </link>
  <link name="TricBrac_LFA">
    <inertial>
      <origin xyz="0.0 0.0 0.0" rpy="0.0 0.0 0.0"/>
      <mass value="0.0"/>
      <inertia ixx="0.0" ixy="0.0" ixz="0.0" iyy="0.0" iyz="0.0" izz="0.0"/>
    </inertial>
  </link>
  <link name="FlexCarp_LFA">
    <inertial>
      <origin xyz="0.0 0.0 0.0" rpy="0.0 0.0 0.0"/>
      <mass value="0.0"/>
      <inertia ixx="0.0" ixy="0.0" ixz="0.0" iyy="0.0" iyz="0.0" izz="0.0"/>
    </inertial>
  </link>
  <link name="FlexCarp_LH">
    <inertial>
      <origin xyz="0.0 0.0 0.0" rpy="0.0 0.0 0.0"/>
      <mass value="0.0"/>
      <inertia ixx="0.0" ixy="0.0" ixz="0.0" iyy="0.0" iyz="0.0" izz="0.0"/>
    </inertial>
  </link>
  <link name="ExtCarp_LFA">
    <inertial>
      <origin xyz="0.0 0.0 0.0" rpy="0.0 0.0 0.0"/>
      <mass value="0.0"/>
      <inertia ixx="0.0" ixy="0.0" ixz="0.0" iyy="0.0" iyz="0.0" izz="0.0"/>
    </inertial>
  </link>
  <link name="ExtCarp_LH">
    <inertial>
      <origin xyz="0.0 0.0 0.0" rpy="0.0 0.0 0.0"/>
      <mass value="0.0"/>
      <inertia ixx="0.0" ixy="0.0" ixz="0.0" iyy="0.0" iyz="0.0" izz="0.0"/>
    </inertial>
  </link>
  <link name="RecAbd_RUT">
    <inertial>
      <origin xyz="0.0 0.0 0.0" rpy="0.0 0.0 0.0"/>
      <mass value="0.0"/>
      <inertia ixx="0.0" ixy="0.0" ixz="0.0" iyy="0.0" iyz="0.0" izz="0.0"/>
    </inertial>
  </link>
  <link name="RecAbd_RP">
    <inertial>
      <origin xyz="0.0 0.0 0.0" rpy="0.0 0.0 0.0"/>
      <mass value="0.0"/>
      <inertia ixx="0.0" ixy="0.0" ixz="0.0" iyy="0.0" iyz="0.0" izz="0.0"/>
    </inertial>
  </link>
  <link name="ErSpin_RUT">
    <inertial>
      <origin xyz="0.0 0.0 0.0" rpy="0.0 0.0 0.0"/>
      <mass value="0.0"/>
      <inertia ixx="0.0" ixy="0.0" ixz="0.0" iyy="0.0" iyz="0.0" izz="0.0"/>
    </inertial>
  </link>
  <link name="ErSpin_RP">
    <inertial>
      <origin xyz="0.0 0.0 0.0" rpy="0.0 0.0 0.0"/>
      <mass value="0.0"/>
      <inertia ixx="0.0" ixy="0.0" ixz="0.0" iyy="0.0" iyz="0.0" izz="0.0"/>
    </inertial>
  </link>
  <link name="RecAbd_LUT">
    <inertial>
      <origin xyz="0.0 0.0 0.0" rpy="0.0 0.0 0.0"/>
      <mass value="0.0"/>
      <inertia ixx="0.0" ixy="0.0" ixz="0.0" iyy="0.0" iyz="0.0" izz="0.0"/>
    </inertial>
  </link>
  <link name="RecAbd_LP">
    <inertial>
      <origin xyz="0.0 0.0 0.0" rpy="0.0 0.0 0.0"/>
      <mass value="0.0"/>
      <inertia ixx="0.0" ixy="0.0" ixz="0.0" iyy="0.0" iyz="0.0" izz="0.0"/>
    </inertial>
  </link>
  <link name="ErSpin_LUT">
    <inertial>
      <origin xyz="0.0 0.0 0.0" rpy="0.0 0.0 0.0"/>
      <mass value="0.0"/>
      <inertia ixx="0.0" ixy="0.0" ixz="0.0" iyy="0.0" iyz="0.0" izz="0.0"/>
    </inertial>
  </link>
  <link name="ErSpin_LP">
    <inertial>
      <origin xyz="0.0 0.0 0.0" rpy="0.0 0.0 0.0"/>
      <mass value="0.0"/>
      <inertia ixx="0.0" ixy="0.0" ixz="0.0" iyy="0.0" iyz="0.0" izz="0.0"/>
    </inertial>
  </link>
  <link name="RecFem_RLT">
    <inertial>
      <origin xyz="0.0 0.0 0.0" rpy="0.0 0.0 0.0"/>
      <mass value="0.0"/>
      <inertia ixx="0.0" ixy="0.0" ixz="0.0" iyy="0.0" iyz="0.0" izz="0.0"/>
    </inertial>
  </link>
  <link name="RecFem_RLL">
    <inertial>
      <origin xyz="0.0 0.0 0.0" rpy="0.0 0.0 0.0"/>
      <mass value="0.0"/>
      <inertia ixx="0.0" ixy="0.0" ixz="0.0" iyy="0.0" iyz="0.0" izz="0.0"/>
    </inertial>
  </link>
  <link name="BicFem_RUL">
    <inertial>
      <origin xyz="0.0 0.0 0.0" rpy="0.0 0.0 0.0"/>
      <mass value="0.0"/>
      <inertia ixx="0.0" ixy="0.0" ixz="0.0" iyy="0.0" iyz="0.0" izz="0.0"/>
    </inertial>
  </link>
  <link name="BicFem_RLL">
    <inertial>
      <origin xyz="0.0 0.0 0.0" rpy="0.0 0.0 0.0"/>
      <mass value="0.0"/>
      <inertia ixx="0.0" ixy="0.0" ixz="0.0" iyy="0.0" iyz="0.0" izz="0.0"/>
    </inertial>
  </link>
  <link name="RecFem_LLT">
    <inertial>
      <origin xyz="0.0 0.0 0.0" rpy="0.0 0.0 0.0"/>
      <mass value="0.0"/>
      <inertia ixx="0.0" ixy="0.0" ixz="0.0" iyy="0.0" iyz="0.0" izz="0.0"/>
    </inertial>
  </link>
  <link name="RecFem_LLL">
    <inertial>
      <origin xyz="0.0 0.0 0.0" rpy="0.0 0.0 0.0"/>
      <mass value="0.0"/>
      <inertia ixx="0.0" ixy="0.0" ixz="0.0" iyy="0.0" iyz="0.0" izz="0.0"/>
    </inertial>
  </link>
  <link name="BicFem_LUL">
    <inertial>
      <origin xyz="0.0 0.0 0.0" rpy="0.0 0.0 0.0"/>
      <mass value="0.0"/>
      <inertia ixx="0.0" ixy="0.0" ixz="0.0" iyy="0.0" iyz="0.0" izz="0.0"/>
    </inertial>
  </link>
  <link name="BicFem_LLL">
    <inertial>
      <origin xyz="0.0 0.0 0.0" rpy="0.0 0.0 0.0"/>
      <mass value="0.0"/>
      <inertia ixx="0.0" ixy="0.0" ixz="0.0" iyy="0.0" iyz="0.0" izz="0.0"/>
    </inertial>
  </link>
  <link name="TibAnt_RLL">
    <inertial>
      <origin xyz="0.0 0.0 0.0" rpy="0.0 0.0 0.0"/>
      <mass value="0.0"/>
      <inertia ixx="0.0" ixy="0.0" ixz="0.0" iyy="0.0" iyz="0.0" izz="0.0"/>
    </inertial>
  </link>
  <link name="TibAnt_RF">
    <inertial>
      <origin xyz="0.0 0.0 0.0" rpy="0.0 0.0 0.0"/>
      <mass value="0.0"/>
      <inertia ixx="0.0" ixy="0.0" ixz="0.0" iyy="0.0" iyz="0.0" izz="0.0"/>
    </inertial>
  </link>
  <link name="GasLat_RUL">
    <inertial>
      <origin xyz="0.0 0.0 0.0" rpy="0.0 0.0 0.0"/>
      <mass value="0.0"/>
      <inertia ixx="0.0" ixy="0.0" ixz="0.0" iyy="0.0" iyz="0.0" izz="0.0"/>
    </inertial>
  </link>
  <link name="GasLat_RF">
    <inertial>
      <origin xyz="0.0 0.0 0.0" rpy="0.0 0.0 0.0"/>
      <mass value="0.0"/>
      <inertia ixx="0.0" ixy="0.0" ixz="0.0" iyy="0.0" iyz="0.0" izz="0.0"/>
    </inertial>
  </link>
  <link name="GasMed_RUL">
    <inertial>
      <origin xyz="0.0 0.0 0.0" rpy="0.0 0.0 0.0"/>
      <mass value="0.0"/>
      <inertia ixx="0.0" ixy="0.0" ixz="0.0" iyy="0.0" iyz="0.0" izz="0.0"/>
    </inertial>
  </link>
  <link name="GasMed_RF">
    <inertial>
      <origin xyz="0.0 0.0 0.0" rpy="0.0 0.0 0.0"/>
      <mass value="0.0"/>
      <inertia ixx="0.0" ixy="0.0" ixz="0.0" iyy="0.0" iyz="0.0" izz="0.0"/>
    </inertial>
  </link>
  <link name="TibAnt_LLL">
    <inertial>
      <origin xyz="0.0 0.0 0.0" rpy="0.0 0.0 0.0"/>
      <mass value="0.0"/>
      <inertia ixx="0.0" ixy="0.0" ixz="0.0" iyy="0.0" iyz="0.0" izz="0.0"/>
    </inertial>
  </link>
  <link name="TibAnt_LF">
    <inertial>
      <origin xyz="0.0 0.0 0.0" rpy="0.0 0.0 0.0"/>
      <mass value="0.0"/>
      <inertia ixx="0.0" ixy="0.0" ixz="0.0" iyy="0.0" iyz="0.0" izz="0.0"/>
    </inertial>
  </link>
  <link name="GasLat_LUL">
    <inertial>
      <origin xyz="0.0 0.0 0.0" rpy="0.0 0.0 0.0"/>
      <mass value="0.0"/>
      <inertia ixx="0.0" ixy="0.0" ixz="0.0" iyy="0.0" iyz="0.0" izz="0.0"/>
    </inertial>
  </link>
  <link name="GasLat_LF">
    <inertial>
      <origin xyz="0.0 0.0 0.0" rpy="0.0 0.0 0.0"/>
      <mass value="0.0"/>
      <inertia ixx="0.0" ixy="0.0" ixz="0.0" iyy="0.0" iyz="0.0" izz="0.0"/>
    </inertial>
  </link>
  <link name="GasMed_LUL">
    <inertial>
      <origin xyz="0.0 0.0 0.0" rpy="0.0 0.0 0.0"/>
      <mass value="0.0"/>
      <inertia ixx="0.0" ixy="0.0" ixz="0.0" iyy="0.0" iyz="0.0" izz="0.0"/>
    </inertial>
  </link>
  <link name="GasMed_LF">
    <inertial>
      <origin xyz="0.0 0.0 0.0" rpy="0.0 0.0 0.0"/>
      <mass value="0.0"/>
      <inertia ixx="0.0" ixy="0.0" ixz="0.0" iyy="0.0" iyz="0.0" izz="0.0"/>
    </inertial>
  </link>
  <joint name="jL5S1_rotx" type="revolute">
    <dynamics damping="0.1" friction="0.0"/>
    <limit effort="30.0" velocity="1.0" lower="-0.610865" upper="0.610865"/>
    <parent link="Pelvis"/>
    <child link="LowerTrunk_f1"/>
    <axis xyz="1. 0. 0."/>
    <origin xyz="0.0 0.0 0.06434999999999999" rpy="0.0 0.0 0.0"/>
  </joint>
  <joint name="jL5S1_roty" type="revolute">
    <dynamics damping="0.1" friction="0.0"/>
    <limit effort="30.0" velocity="1.0" lower="-0.523599" upper="1.309"/>
    <parent link="LowerTrunk_f1"/>
    <child link="LowerTrunk"/>
    <axis xyz="0. 1. 0."/>
    <origin xyz="0.0 0.0 0.0" rpy="0.0 0.0 0.0"/>
  </joint>
  <joint name="jT9T8_rotx" type="revolute">
    <dynamics damping="0.1" friction="0.0"/>
    <limit effort="30.0" velocity="1.0" lower="-0.349066" upper="0.349066"/>
    <parent link="LowerTrunk"/>
    <child link="UpperTrunk_f1"/>
    <axis xyz="1. 0. 0."/>
    <origin xyz="0.0 0.0 0.165" rpy="0.0 0.0 0.0"/>
  </joint>
  <joint name="jT9T8_roty" type="revolute">
    <dynamics damping="0.1" friction="0.0"/>
    <limit effort="30.0" velocity="1.0" lower="-0.261799" upper="0.698132"/>
    <parent link="UpperTrunk_f1"/>
    <child link="UpperTrunk_f2"/>
    <axis xyz="0. 1. 0."/>
    <origin xyz="0.0 0.0 0.0" rpy="0.0 0.0 0.0"/>
  </joint>
  <joint name="jT9T8_rotz" type="revolute">
    <dynamics damping="0.1" friction="0.0"/>
    <limit effort="30.0" velocity="1.0" lower="-0.610865" upper="0.610865"/>
    <parent link="UpperTrunk_f2"/>
    <child link="UpperTrunk"/>
    <axis xyz="0. 0. 1."/>
    <origin xyz="0.0 0.0 0.0" rpy="0.0 0.0 0.0"/>
  </joint>
  <joint name="jC7RightShoulder_rotx" type="revolute">
    <dynamics damping="0.1" friction="0.0"/>
    <limit effort="30.0" velocity="1.0" lower="-0.785398" upper="0.0872665"/>
    <parent link="UpperTrunk"/>
    <child link="RightShoulder"/>
    <axis xyz="1. 0. 0."/>
    <origin xyz="0.0 -0.071225 0.1365" rpy="0.0 0.0 0.0"/>
  </joint>
  <joint name="jC7LeftShoulder_rotx" type="revolute">
    <dynamics damping="0.1" friction="0.0"/>
    <limit effort="30.0" velocity="1.0" lower="-0.0872665" upper="0.785398"/>
    <parent link="UpperTrunk"/>
    <child link="LeftShoulder"/>
    <axis xyz="1. 0. 0."/>
    <origin xyz="0.0 0.071225 0.1365" rpy="0.0 0.0 0.0"/>
  </joint>
  <joint name="jT1C7_rotx" type="revolute">
    <dynamics damping="0.1" friction="0.0"/>
    <limit effort="30.0" velocity="1.0" lower="-0.610865" upper="0.610865"/>
    <parent link="UpperTrunk"/>
    <child link="Neck_f1"/>
    <axis xyz="1. 0. 0."/>
    <origin xyz="0.0 0.0 0.1815" rpy="0.0 0.0 0.0"/>
  </joint>
  <joint name="jT1C7_roty" type="revolute">
    <dynamics damping="0.1" friction="0.0"/>
    <limit effort="30.0" velocity="1.0" lower="-0.959931" upper="1.5708"/>
    <parent link="Neck_f1"/>
    <child link="Neck_f2"/>
    <axis xyz="0. 1. 0."/>
    <origin xyz="0.0 0.0 0.0" rpy="0.0 0.0 0.0"/>
  </joint>
  <joint name="jT1C7_rotz" type="revolute">
    <dynamics damping="0.1" friction="0.0"/>
    <limit effort="30.0" velocity="1.0" lower="-1.22173" upper="1.22173"/>
    <parent link="Neck_f2"/>
    <child link="Neck"/>
    <axis xyz="0. 0. 1."/>
    <origin xyz="0.0 0.0 0.0" rpy="0.0 0.0 0.0"/>
  </joint>
  <joint name="jC1Head_rotx" type="revolute">
    <dynamics damping="0.1" friction="0.0"/>
    <limit effort="30.0" velocity="1.0" lower="-0.610865" upper="0.610865"/>
    <parent link="Neck"/>
    <child link="Head_f1"/>
    <axis xyz="1. 0. 0."/>
    <origin xyz="0.0 0.0 0.08579999999999999" rpy="0.0 0.0 0.0"/>
  </joint>
  <joint name="jC1Head_roty" type="revolute">
    <dynamics damping="0.1" friction="0.0"/>
    <limit effort="30.0" velocity="1.0" lower="-0.436332" upper="0.174533"/>
    <parent link="Head_f1"/>
    <child link="Head"/>
    <axis xyz="0. 1. 0."/>
    <origin xyz="0.0 0.0 0.0" rpy="0.0 0.0 0.0"/>
  </joint>
  <joint name="jRightShoulder_rotx" type="revolute">
    <dynamics damping="0.1" friction="0.0"/>
    <limit effort="30.0" velocity="1.0" lower="-0.8727" upper="0.8727"/>
    <parent link="RightShoulder"/>
    <child link="RightShoulder_f1"/>
    <axis xyz="1. 0. 0."/>
    <origin xyz="0.0 -0.14245 0.0" rpy="0.0 0.0 0.0"/>
  </joint>
  <joint name="jRightShoulder_roty" type="revolute">
    <dynamics damping="0.1" friction="0.0"/>
    <limit effort="30.0" velocity="1.0" lower="-0.8727" upper="0.8727"/>
    <parent link="RightShoulder_f1"/>
    <child link="RightShoulder_f2"/>
    <axis xyz="0. 1. 0."/>
    <origin xyz="0.0 0.0 0.0" rpy="0.0 0.0 0.0"/>
  </joint>
  <joint name="jRightShoulder_rotz" type="revolute">
    <dynamics damping="0.1" friction="0.0"/>
    <limit effort="30.0" velocity="1.0" lower="-0.8727" upper="0.8727"/>
    <parent link="RightShoulder_f2"/>
    <child link="RightUpperArm"/>
    <axis xyz="0. 0. 1."/>
    <origin xyz="0.0 0.0 0.0" rpy="0.0 0.0 0.0"/>
  </joint>
  <joint name="jRightElbow_roty" type="revolute">
    <dynamics damping="0.1" friction="0.0"/>
    <limit effort="30.0" velocity="1.0" lower="-1.5708" upper="1.48353"/>
    <parent link="RightUpperArm"/>
    <child link="RightForeArm_f1"/>
    <axis xyz="0. 1. 0."/>
    <origin xyz="0.0 -0.3069 0.0" rpy="0.0 0.0 0.0"/>
  </joint>
  <joint name="jRightElbow_rotz" type="revolute">
    <dynamics damping="0.1" friction="0.0"/>
    <limit effort="30.0" velocity="1.0" lower="0.0" upper="2.53073"/>
    <parent link="RightForeArm_f1"/>
    <child link="RightForeArm"/>
    <axis xyz="0. 0. 1."/>
    <origin xyz="0.0 0.0 0.0" rpy="0.0 0.0 0.0"/>
  </joint>
  <joint name="jRightWrist_rotx" type="revolute">
    <dynamics damping="0.1" friction="0.0"/>
    <limit effort="30.0" velocity="1.0" lower="-0.872665" upper="1.0472"/>
    <parent link="RightForeArm"/>
    <child link="RightHand_f1"/>
    <axis xyz="1. 0. 0."/>
    <origin xyz="0.0 -0.24089999999999998 0.0" rpy="0.0 0.0 0.0"/>
  </joint>
  <joint name="jRightWrist_rotz" type="revolute">
    <dynamics damping="0.1" friction="0.0"/>
    <limit effort="30.0" velocity="1.0" lower="-0.523599" upper="0.349066"/>
    <parent link="RightHand_f1"/>
    <child link="RightHand"/>
    <axis xyz="0. 0. 1."/>
    <origin xyz="0.0 0.0 0.0" rpy="0.0 0.0 0.0"/>
  </joint>
  <joint name="jRightHandCOM" type="fixed">
    <parent link="RightHand"/>
    <child link="RightHandCOM"/>
    <axis xyz="1. 0. 0."/>
    <origin xyz="0.0 -0.0891 0.0" rpy="0.0 0.0 0.0"/>
  </joint>
  <joint name="jLeftShoulder_rotx" type="revolute">
    <dynamics damping="0.1" friction="0.0"/>
    <limit effort="30.0" velocity="1.0" lower="-0.8727" upper="0.8727"/>
    <parent link="LeftShoulder"/>
    <child link="LeftShoulder_f1"/>
    <axis xyz="1. 0. 0."/>
    <origin xyz="0.0 0.14245 0.0" rpy="0.0 0.0 0.0"/>
  </joint>
  <joint name="jLeftShoulder_roty" type="revolute">
    <dynamics damping="0.1" friction="0.0"/>
    <limit effort="30.0" velocity="1.0" lower="-0.8727" upper="0.8727"/>
    <parent link="LeftShoulder_f1"/>
    <child link="LeftShoulder_f2"/>
    <axis xyz="0. 1. 0."/>
    <origin xyz="0.0 0.0 0.0" rpy="0.0 0.0 0.0"/>
  </joint>
  <joint name="jLeftShoulder_rotz" type="revolute">
    <dynamics damping="0.1" friction="0.0"/>
    <limit effort="30.0" velocity="1.0" lower="-0.8727" upper="0.8727"/>
    <parent link="LeftShoulder_f2"/>
    <child link="LeftUpperArm"/>
    <axis xyz="0. 0. 1."/>
    <origin xyz="0.0 0.0 0.0" rpy="0.0 0.0 0.0"/>
  </joint>
  <joint name="jLeftElbow_roty" type="revolute">
    <dynamics damping="0.1" friction="0.0"/>
    <limit effort="30.0" velocity="1.0" lower="-1.5708" upper="1.48353"/>
    <parent link="LeftUpperArm"/>
    <child link="LeftForeArm_f1"/>
    <axis xyz="0. 1. 0."/>
    <origin xyz="0.0 0.3069 0.0" rpy="0.0 0.0 0.0"/>
  </joint>
  <joint name="jLeftElbow_rotz" type="revolute">
    <dynamics damping="0.1" friction="0.0"/>
    <limit effort="30.0" velocity="1.0" lower="-2.53073" upper="0.0"/>
    <parent link="LeftForeArm_f1"/>
    <child link="LeftForeArm"/>
    <axis xyz="0. 0. 1."/>
    <origin xyz="0.0 0.0 0.0" rpy="0.0 0.0 0.0"/>
  </joint>
  <joint name="jLeftWrist_rotx" type="revolute">
    <dynamics damping="0.1" friction="0.0"/>
    <limit effort="30.0" velocity="1.0" lower="-1.0472" upper="0.872665"/>
    <parent link="LeftForeArm"/>
    <child link="LeftHand_f1"/>
    <axis xyz="1. 0. 0."/>
    <origin xyz="0.0 0.24089999999999998 0.0" rpy="0.0 0.0 0.0"/>
  </joint>
  <joint name="jLeftWrist_rotz" type="revolute">
    <dynamics damping="0.1" friction="0.0"/>
    <limit effort="30.0" velocity="1.0" lower="-0.349066" upper="0.523599"/>
    <parent link="LeftHand_f1"/>
    <child link="LeftHand"/>
    <axis xyz="0. 0. 1."/>
    <origin xyz="0.0 0.0 0.0" rpy="0.0 0.0 0.0"/>
  </joint>
  <joint name="jLeftHandCOM" type="fixed">
    <parent link="LeftHand"/>
    <child link="LeftHandCOM"/>
    <axis xyz="1. 0. 0."/>
    <origin xyz="0.0 0.0891 0.0" rpy="0.0 0.0 0.0"/>
  </joint>
  <joint name="jRightHip_rotx" type="revolute">
    <dynamics damping="0.1" friction="0.0"/>
    <limit effort="30.0" velocity="1.0" lower="-0.785398" upper="0.523599"/>
    <parent link="Pelvis"/>
    <child link="RightUpperLeg_f1"/>
    <axis xyz="1. 0. 0."/>
    <origin xyz="0.0 -0.082575 -0.06434999999999999" rpy="0.0 0.0 0.0"/>
  </joint>
  <joint name="jRightHip_roty" type="revolute">
    <dynamics damping="0.1" friction="0.0"/>
    <limit effort="30.0" velocity="1.0" lower="-2.0944" upper="0.261799"/>
    <parent link="RightUpperLeg_f1"/>
    <child link="RightUpperLeg_f2"/>
    <axis xyz="0. 1. 0."/>
    <origin xyz="0.0 0.0 0.0" rpy="0.0 0.0 0.0"/>
  </joint>
  <joint name="jRightHip_rotz" type="revolute">
    <dynamics damping="0.1" friction="0.0"/>
    <limit effort="30.0" velocity="1.0" lower="-0.785398" upper="0.785398"/>
    <parent link="RightUpperLeg_f2"/>
    <child link="RightUpperLeg"/>
    <axis xyz="0. 0. 1."/>
    <origin xyz="0.0 0.0 0.0" rpy="0.0 0.0 0.0"/>
  </joint>
  <joint name="jRightKnee_roty" type="revolute">
    <dynamics damping="0.1" friction="0.0"/>
    <limit effort="30.0" velocity="1.0" lower="0.0" upper="2.35619"/>
    <parent link="RightUpperLeg"/>
    <child link="RightLowerLeg_f1"/>
    <axis xyz="0. 1. 0."/>
    <origin xyz="0.0 0.0 -0.40425" rpy="0.0 0.0 0.0"/>
  </joint>
  <joint name="jRightKnee_rotz" type="revolute">
    <dynamics damping="0.1" friction="0.0"/>
    <limit effort="30.0" velocity="1.0" lower="-0.698132" upper="0.523599"/>
    <parent link="RightLowerLeg_f1"/>
    <child link="RightLowerLeg"/>
    <axis xyz="0. 0. 1."/>
    <origin xyz="0.0 0.0 0.0" rpy="0.0 0.0 0.0"/>
  </joint>
  <joint name="jRightAnkle_rotx" type="revolute">
    <dynamics damping="0.1" friction="0.0"/>
    <limit effort="30.0" velocity="1.0" lower="-0.610865" upper="0.785398"/>
    <parent link="RightLowerLeg"/>
    <child link="RightFoot_f1"/>
    <axis xyz="1. 0. 0."/>
    <origin xyz="0.0 0.0 -0.4059" rpy="0.0 0.0 0.0"/>
  </joint>
  <joint name="jRightAnkle_roty" type="revolute">
    <dynamics damping="0.1" friction="0.0"/>
    <limit effort="30.0" velocity="1.0" lower="-0.523599" upper="0.872665"/>
    <parent link="RightFoot_f1"/>
    <child link="RightFoot_f2"/>
    <axis xyz="0. 1. 0."/>
    <origin xyz="0.0 0.0 0.0" rpy="0.0 0.0 0.0"/>
  </joint>
  <joint name="jRightAnkle_rotz" type="revolute">
    <dynamics damping="0.1" friction="0.0"/>
    <limit effort="30.0" velocity="1.0" lower="-0.436332" upper="0.872665"/>
    <parent link="RightFoot_f2"/>
    <child link="RightFoot"/>
    <axis xyz="0. 0. 1."/>
    <origin xyz="0.0 0.0 0.0" rpy="0.0 0.0 0.0"/>
  </joint>
  <joint name="jRightBallFoot_roty" type="revolute">
    <dynamics damping="0.1" friction="0.0"/>
    <limit effort="30.0" velocity="1.0" lower="-0.174533" upper="1.5708"/>
    <parent link="RightFoot"/>
    <child link="RightToe"/>
    <axis xyz="0. 1. 0."/>
    <origin xyz="0.19455399999999998 0.0 -0.032174999999999995" rpy="0.0 0.0 0.0"/>
  </joint>
  <joint name="jRightBirken_roty" type="fixed">
    <dynamics damping="0.1" friction="0.0"/>
    <limit effort="30.0" velocity="1.0" lower="-0.174533" upper="1.5708"/>
    <parent link="RightFoot"/>
    <child link="RightFTSensor"/>
    <axis xyz="0. 1. 0."/>
    <origin xyz="0.037 0.0 -0.11934999999999998" rpy="0.0 0.0 0.0"/>
  </joint>
  <joint name="jLeftHip_rotx" type="revolute">
    <dynamics damping="0.1" friction="0.0"/>
    <limit effort="30.0" velocity="1.0" lower="-0.523599" upper="0.785398"/>
    <parent link="Pelvis"/>
    <child link="LeftUpperLeg_f1"/>
    <axis xyz="1. 0. 0."/>
    <origin xyz="0.0 0.082575 -0.06434999999999999" rpy="0.0 0.0 0.0"/>
  </joint>
  <joint name="jLeftHip_roty" type="revolute">
    <dynamics damping="0.1" friction="0.0"/>
    <limit effort="30.0" velocity="1.0" lower="-2.0944" upper="0.261799"/>
    <parent link="LeftUpperLeg_f1"/>
    <child link="LeftUpperLeg_f2"/>
    <axis xyz="0. 1. 0."/>
    <origin xyz="0.0 0.0 0.0" rpy="0.0 0.0 0.0"/>
  </joint>
  <joint name="jLeftHip_rotz" type="revolute">
    <dynamics damping="0.1" friction="0.0"/>
    <limit effort="30.0" velocity="1.0" lower="-0.785398" upper="0.785398"/>
    <parent link="LeftUpperLeg_f2"/>
    <child link="LeftUpperLeg"/>
    <axis xyz="0. 0. 1."/>
    <origin xyz="0.0 0.0 0.0" rpy="0.0 0.0 0.0"/>
  </joint>
  <joint name="jLeftKnee_roty" type="revolute">
    <dynamics damping="0.1" friction="0.0"/>
    <limit effort="30.0" velocity="1.0" lower="0.0" upper="2.35619"/>
    <parent link="LeftUpperLeg"/>
    <child link="LeftLowerLeg_f1"/>
    <axis xyz="0. 1. 0."/>
    <origin xyz="0.0 0.0 -0.40425" rpy="0.0 0.0 0.0"/>
  </joint>
  <joint name="jLeftKnee_rotz" type="revolute">
    <dynamics damping="0.1" friction="0.0"/>
    <limit effort="30.0" velocity="1.0" lower="-0.523599" upper="0.698132"/>
    <parent link="LeftLowerLeg_f1"/>
    <child link="LeftLowerLeg"/>
    <axis xyz="0. 0. 1."/>
    <origin xyz="0.0 0.0 0.0" rpy="0.0 0.0 0.0"/>
  </joint>
  <joint name="jLeftAnkle_rotx" type="revolute">
    <dynamics damping="0.1" friction="0.0"/>
    <limit effort="30.0" velocity="1.0" lower="-0.785398" upper="0.610865"/>
    <parent link="LeftLowerLeg"/>
    <child link="LeftFoot_f1"/>
    <axis xyz="1. 0. 0."/>
    <origin xyz="0.0 0.0 -0.4059" rpy="0.0 0.0 0.0"/>
  </joint>
  <joint name="jLeftAnkle_roty" type="revolute">
    <dynamics damping="0.1" friction="0.0"/>
    <limit effort="30.0" velocity="1.0" lower="-0.523599" upper="0.872665"/>
    <parent link="LeftFoot_f1"/>
    <child link="LeftFoot_f2"/>
    <axis xyz="0. 1. 0."/>
    <origin xyz="0.0 0.0 0.0" rpy="0.0 0.0 0.0"/>
  </joint>
  <joint name="jLeftAnkle_rotz" type="revolute">
    <dynamics damping="0.1" friction="0.0"/>
    <limit effort="30.0" velocity="1.0" lower="-0.872665" upper="0.436332"/>
    <parent link="LeftFoot_f2"/>
    <child link="LeftFoot"/>
    <axis xyz="0. 0. 1."/>
    <origin xyz="0.0 0.0 0.0" rpy="0.0 0.0 0.0"/>
  </joint>
  <joint name="jLeftBallFoot_roty" type="revolute">
    <dynamics damping="0.1" friction="0.0"/>
    <limit effort="30.0" velocity="1.0" lower="-0.174533" upper="1.5708"/>
    <parent link="LeftFoot"/>
    <child link="LeftToe"/>
    <axis xyz="0. 1. 0."/>
    <origin xyz="0.19455399999999998 0.0 -0.032174999999999995" rpy="0.0 0.0 0.0"/>
  </joint>
  <joint name="jLeftBirken_roty" type="fixed">
    <dynamics damping="0.1" friction="0.0"/>
    <limit effort="30.0" velocity="1.0" lower="-0.174533" upper="1.5708"/>
    <parent link="LeftFoot"/>
    <child link="LeftFTSensor"/>
    <axis xyz="0. 1. 0."/>
    <origin xyz="0.037 0.0 -0.11934999999999998" rpy="0.0 0.0 0.0"/>
  </joint>
  <joint name="jRightBicBrac_RUA" type="fixed">
    <parent link="RightUpperArm"/>
    <child link="BicBrac_RUA"/>
    <axis xyz="1. 0. 0."/>
    <origin xyz="-2.7554552980815448e-18 0.0 0.045" rpy="0.0 0.0 0.0"/>
  </joint>
  <joint name="jRightBicBrac_RFA" type="fixed">
    <parent link="RightForeArm"/>
    <child link="BicBrac_RFA"/>
    <axis xyz="1. 0. 0."/>
    <origin xyz="0.045 0.0 0.045" rpy="0.0 0.0 0.0"/>
  </joint>
  <joint name="jRightTricBrac_RUA" type="fixed">
    <parent link="RightUpperArm"/>
    <child link="TricBrac_RUA"/>
    <axis xyz="1. 0. 0."/>
    <origin xyz="-0.045 0.0 0.0" rpy="0.0 0.0 0.0"/>
  </joint>
  <joint name="jRightTricBrac_RFA" type="fixed">
    <parent link="RightForeArm"/>
    <child link="TricBrac_RFA"/>
    <axis xyz="1. 0. 0."/>
    <origin xyz="0.045 0.0 0.0" rpy="0.0 0.0 0.0"/>
  </joint>
  <joint name="jRightFlexCarp_RFA" type="fixed">
    <parent link="RightForeArm"/>
    <child link="FlexCarp_RFA"/>
    <axis xyz="1. 0. 0."/>
    <origin xyz="-0.045 0.0 0.0" rpy="0.0 0.0 0.0"/>
  </joint>
  <joint name="jRightFlexCarp_RH" type="fixed">
    <parent link="RightHand"/>
    <child link="FlexCarp_RH"/>
    <axis xyz="1. 0. 0."/>
    <origin xyz="0.016 -0.0891 0.0225" rpy="0.0 0.0 0.0"/>
  </joint>
  <joint name="jRightExtCarp_RFA" type="fixed">
    <parent link="RightForeArm"/>
    <child link="ExtCarp_RFA"/>
    <axis xyz="1. 0. 0."/>
    <origin xyz="0.045 0.0 5.5109105961630896e-18" rpy="0.0 0.0 0.0"/>
  </joint>
  <joint name="jRightExtCarp_RH" type="fixed">
    <parent link="RightHand"/>
    <child link="ExtCarp_RH"/>
    <axis xyz="1. 0. 0."/>
    <origin xyz="0.016 -0.0891 -0.0225" rpy="0.0 0.0 0.0"/>
  </joint>
  <joint name="jLeftBicBrac_LUA" type="fixed">
    <parent link="LeftUpperArm"/>
    <child link="BicBrac_LUA"/>
    <axis xyz="1. 0. 0."/>
    <origin xyz="2.7554552980815448e-18 0.0 0.045" rpy="0.0 0.0 0.0"/>
  </joint>
  <joint name="jLeftBicBrac_LFA" type="fixed">
    <parent link="LeftForeArm"/>
    <child link="BicBrac_LFA"/>
    <axis xyz="1. 0. 0."/>
    <origin xyz="0.045 0.0 0.0" rpy="0.0 0.0 0.0"/>
  </joint>
  <joint name="jLeftTricBrac_LUA" type="fixed">
    <parent link="LeftUpperArm"/>
    <child link="TricBrac_LUA"/>
    <axis xyz="1. 0. 0."/>
    <origin xyz="0.045 0.0 5.5109105961630896e-18" rpy="0.0 0.0 0.0"/>
  </joint>
  <joint name="jLeftTricBrac_LFA" type="fixed">
    <parent link="LeftForeArm"/>
    <child link="TricBrac_LFA"/>
    <axis xyz="1. 0. 0."/>
    <origin xyz="0.045 0.0 5.5109105961630896e-18" rpy="0.0 0.0 0.0"/>
  </joint>
  <joint name="jLeftFlexCarp_LFA" type="fixed">
    <parent link="LeftForeArm"/>
    <child link="FlexCarp_LFA"/>
    <axis xyz="1. 0. 0."/>
    <origin xyz="-0.045 0.0 5.5109105961630896e-18" rpy="0.0 0.0 0.0"/>
  </joint>
  <joint name="jLeftFlexCarp_LH" type="fixed">
    <parent link="LeftHand"/>
    <child link="FlexCarp_LH"/>
    <axis xyz="1. 0. 0."/>
    <origin xyz="0.016 0.0891 0.0225" rpy="0.0 0.0 0.0"/>
  </joint>
  <joint name="jLeftExtCarp_LFA" type="fixed">
    <parent link="LeftForeArm"/>
    <child link="ExtCarp_LFA"/>
    <axis xyz="1. 0. 0."/>
    <origin xyz="-0.045 0.0 5.5109105961630896e-18" rpy="0.0 0.0 0.0"/>
  </joint>
  <joint name="jLeftExtCarp_LH" type="fixed">
    <parent link="LeftHand"/>
    <child link="ExtCarp_LH"/>
    <axis xyz="1. 0. 0."/>
    <origin xyz="0.016 0.0891 -0.0225" rpy="0.0 0.0 0.0"/>
  </joint>
  <joint name="jRightRecAbd_RUT" type="fixed">
    <parent link="UpperTrunk"/>
    <child link="RecAbd_RUT"/>
    <axis xyz="1. 0. 0."/>
    <origin xyz="0.15 -0.071225 0.0" rpy="0.0 0.0 0.0"/>
  </joint>
  <joint name="jRightRecAbd_RP" type="fixed">
    <parent link="Pelvis"/>
    <child link="RecAbd_RP"/>
    <axis xyz="1. 0. 0."/>
    <origin xyz="0.15 0.0 0.0" rpy="0.0 0.0 0.0"/>
  </joint>
  <joint name="jRightErSpin_RUT" type="fixed">
    <parent link="UpperTrunk"/>
    <child link="ErSpin_RUT"/>
    <axis xyz="1. 0. 0."/>
    <origin xyz="-0.15 -0.071225 0.1815" rpy="0.0 0.0 0.0"/>
  </joint>
  <joint name="jRightErSpin_RP" type="fixed">
    <parent link="Pelvis"/>
    <child link="ErSpin_RP"/>
    <axis xyz="1. 0. 0."/>
    <origin xyz="-0.15 0.0 0.0" rpy="0.0 0.0 0.0"/>
  </joint>
  <joint name="jLeftRecAbd_LUT" type="fixed">
    <parent link="UpperTrunk"/>
    <child link="RecAbd_LUT"/>
    <axis xyz="1. 0. 0."/>
    <origin xyz="0.15 0.071225 0.0" rpy="0.0 0.0 0.0"/>
  </joint>
  <joint name="jLeftRecAbd_LP" type="fixed">
    <parent link="Pelvis"/>
    <child link="RecAbd_LP"/>
    <axis xyz="1. 0. 0."/>
    <origin xyz="0.0 0.0 0.0" rpy="0.0 0.0 0.0"/>
  </joint>
  <joint name="jLeftErSpin_LUT" type="fixed">
    <parent link="UpperTrunk"/>
    <child link="ErSpin_LUT"/>
    <axis xyz="1. 0. 0."/>
    <origin xyz="-0.15 0.071225 0.1815" rpy="0.0 0.0 0.0"/>
  </joint>
  <joint name="jLeftErSpin_LP" type="fixed">
    <parent link="Pelvis"/>
    <child link="ErSpin_LP"/>
    <axis xyz="1. 0. 0."/>
    <origin xyz="-0.15 0.0 0.0" rpy="0.0 0.0 0.0"/>
  </joint>
  <joint name="jRightRecFem_RP" type="fixed">
    <parent link="Pelvis"/>
    <child link="RecFem_RLT"/>
    <axis xyz="1. 0. 0."/>
    <origin xyz="0.15 -0.10504999999999999 -0.06434999999999999" rpy="0.0 0.0 0.0"/>
  </joint>
  <joint name="jRightRecFem_RLL" type="fixed">
    <parent link="RightLowerLeg"/>
    <child link="RecFem_RLL"/>
    <axis xyz="1. 0. 0."/>
    <origin xyz="0.0575 -3.52085954754864e-18 0.0" rpy="0.0 0.0 0.0"/>
  </joint>
  <joint name="jRightBicFem_RUL" type="fixed">
    <parent link="RightUpperLeg"/>
    <child link="BicFem_RUL"/>
    <axis xyz="1. 0. 0."/>
    <origin xyz="-0.075 1.0562578642645921e-17 0.0" rpy="0.0 0.0 0.0"/>
  </joint>
  <joint name="jRightBicFem_RLL" type="fixed">
    <parent link="RightLowerLeg"/>
    <child link="BicFem_RLL"/>
    <axis xyz="1. 0. 0."/>
    <origin xyz="0.0 -0.0575 0.0" rpy="0.0 0.0 0.0"/>
  </joint>
  <joint name="jLeftRecFem_LP" type="fixed">
    <parent link="Pelvis"/>
    <child link="RecFem_LLT"/>
    <axis xyz="1. 0. 0."/>
    <origin xyz="0.15 0.10504999999999999 -0.06434999999999999" rpy="0.0 0.0 0.0"/>
  </joint>
  <joint name="jLeftRecFem_LLL" type="fixed">
    <parent link="LeftLowerLeg"/>
    <child link="RecFem_LLL"/>
    <axis xyz="1. 0. 0."/>
    <origin xyz="0.0575 -3.52085954754864e-18 0.0" rpy="0.0 0.0 0.0"/>
  </joint>
  <joint name="jLeftBicFem_LUL" type="fixed">
    <parent link="LeftUpperLeg"/>
    <child link="BicFem_LUL"/>
    <axis xyz="1. 0. 0."/>
    <origin xyz="-0.075 1.0562578642645921e-17 0.0" rpy="0.0 0.0 0.0"/>
  </joint>
  <joint name="jLeftBicFem_LLL" type="fixed">
    <parent link="LeftLowerLeg"/>
    <child link="BicFem_LLL"/>
    <axis xyz="1. 0. 0."/>
    <origin xyz="7.04171909509728e-18 0.0575 0.0" rpy="0.0 0.0 0.0"/>
  </joint>
  <joint name="jRightTibAnt_RLL" type="fixed">
    <parent link="RightLowerLeg"/>
    <child link="TibAnt_RLL"/>
    <axis xyz="1. 0. 0."/>
    <origin xyz="0.0575 -3.52085954754864e-18 0.0" rpy="0.0 0.0 0.0"/>
  </joint>
  <joint name="jRightTibAnt_RF" type="fixed">
    <parent link="RightFoot"/>
    <child link="TibAnt_RF"/>
    <axis xyz="1. 0. 0."/>
    <origin xyz="0.12539999999999998 0.045375 0.0" rpy="0.0 0.0 0.0"/>
  </joint>
  <joint name="jRightGasLat_RUL" type="fixed">
    <parent link="RightUpperLeg"/>
    <child link="GasLat_RUL"/>
    <axis xyz="1. 0. 0."/>
    <origin xyz="-0.06495190528383289 -0.028750000000000008 -0.40425" rpy="0.0 0.0 0.0"/>
  </joint>
  <joint name="jRightGasLat_RF" type="fixed">
    <parent link="RightFoot"/>
    <child link="GasLat_RF"/>
    <axis xyz="1. 0. 0."/>
    <origin xyz="-0.0575 0.0 -0.032174999999999995" rpy="0.0 0.0 0.0"/>
  </joint>
  <joint name="jRightGasMed_RUL" type="fixed">
    <parent link="RightUpperLeg"/>
    <child link="GasMed_RUL"/>
    <axis xyz="1. 0. 0."/>
    <origin xyz="-0.06495190528383288 0.028750000000000026 -0.40425" rpy="0.0 0.0 0.0"/>
  </joint>
  <joint name="jRightGasMed_RF" type="fixed">
    <parent link="RightFoot"/>
    <child link="GasMed_RF"/>
    <axis xyz="1. 0. 0."/>
    <origin xyz="-0.0575 0.0 -0.032174999999999995" rpy="0.0 0.0 0.0"/>
  </joint>
  <joint name="jLeftTibAnt_LLL" type="fixed">
    <parent link="LeftLowerLeg"/>
    <child link="TibAnt_LLL"/>
    <axis xyz="1. 0. 0."/>
    <origin xyz="0.0575 -3.52085954754864e-18 0.0" rpy="0.0 0.0 0.0"/>
  </joint>
  <joint name="jLeftTibAnt_LF" type="fixed">
    <parent link="LeftFoot"/>
    <child link="TibAnt_LF"/>
    <axis xyz="1. 0. 0."/>
    <origin xyz="0.12539999999999998 -0.045375 0.0" rpy="0.0 0.0 0.0"/>
  </joint>
  <joint name="jLeftGasLat_LUL" type="fixed">
    <parent link="LeftUpperLeg"/>
    <child link="GasLat_LUL"/>
    <axis xyz="1. 0. 0."/>
    <origin xyz="-0.06495190528383288 0.028750000000000026 -0.40425" rpy="0.0 0.0 0.0"/>
  </joint>
  <joint name="jLeftGasLat_LF" type="fixed">
    <parent link="LeftFoot"/>
    <child link="GasLat_LF"/>
    <axis xyz="1. 0. 0."/>
    <origin xyz="-0.0575 0.0 -0.032174999999999995" rpy="0.0 0.0 0.0"/>
  </joint>
  <joint name="jLeftGasMed_LUL" type="fixed">
    <parent link="LeftUpperLeg"/>
    <child link="GasMed_LUL"/>
    <axis xyz="1. 0. 0."/>
    <origin xyz="-0.06495190528383289 -0.028750000000000008 -0.40425" rpy="0.0 0.0 0.0"/>
  </joint>
  <joint name="jLeftGasMed_LF" type="fixed">
    <parent link="LeftFoot"/>
    <child link="GasMed_LF"/>
    <axis xyz="1. 0. 0."/>
    <origin xyz="-0.0575 0.0 -0.032174999999999995" rpy="0.0 0.0 0.0"/>
  </joint>
  <material name="color">
    <color rgba="0.9922 0.8667 0.7922 1.    "/>
  </material>
  <material name="muscle">
    <color rgba="1.0 0.0 0.0 1.    "/>
  </material>
</robot>
